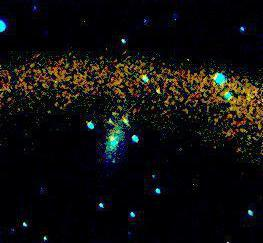star: (96, 147, 126, 177)
